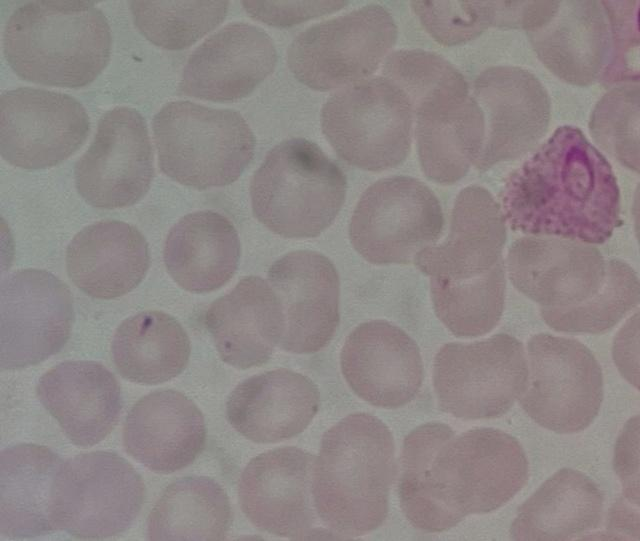Infected: (504, 125, 621, 241)
Uninfected: (308, 413, 397, 533), (151, 99, 257, 192), (248, 140, 344, 238), (288, 6, 397, 92), (464, 64, 552, 170), (5, 3, 111, 90), (318, 80, 416, 173), (347, 175, 443, 266), (73, 106, 157, 210), (176, 22, 278, 107), (420, 186, 505, 288), (430, 332, 526, 422), (517, 334, 603, 433), (259, 250, 341, 353), (47, 449, 144, 536), (429, 427, 527, 510), (236, 446, 326, 536), (202, 274, 287, 367), (37, 357, 123, 447), (339, 320, 424, 409), (409, 84, 485, 183), (529, 0, 615, 87), (2, 268, 75, 370), (0, 88, 87, 173), (224, 368, 319, 445), (65, 219, 150, 302), (507, 234, 604, 306), (121, 388, 205, 470), (424, 256, 508, 338), (545, 257, 635, 333), (508, 467, 604, 538), (400, 418, 457, 532), (162, 211, 241, 293), (110, 311, 191, 386), (378, 49, 467, 112), (147, 476, 229, 537)
